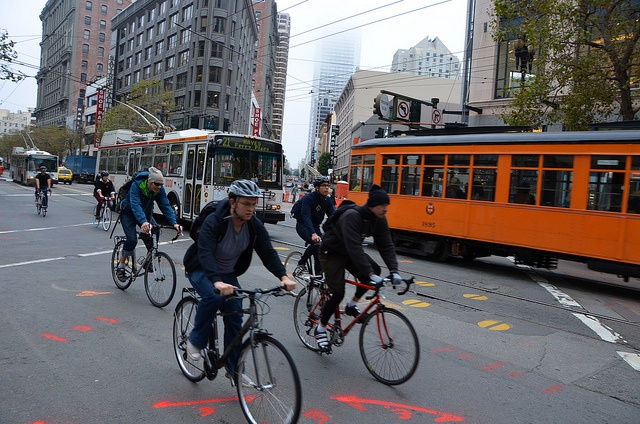non-vehicle: (172, 274, 300, 423), (290, 263, 421, 383), (110, 223, 179, 308), (285, 237, 322, 296), (92, 195, 112, 231), (35, 188, 52, 217)
